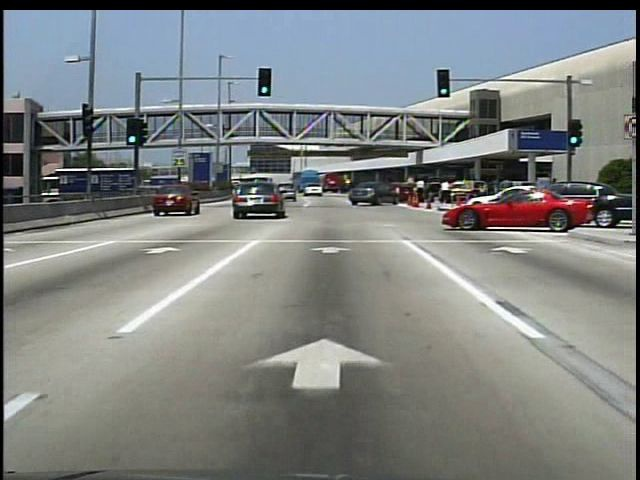person: (414, 176, 430, 210), (439, 183, 455, 210), (220, 125, 228, 142)
